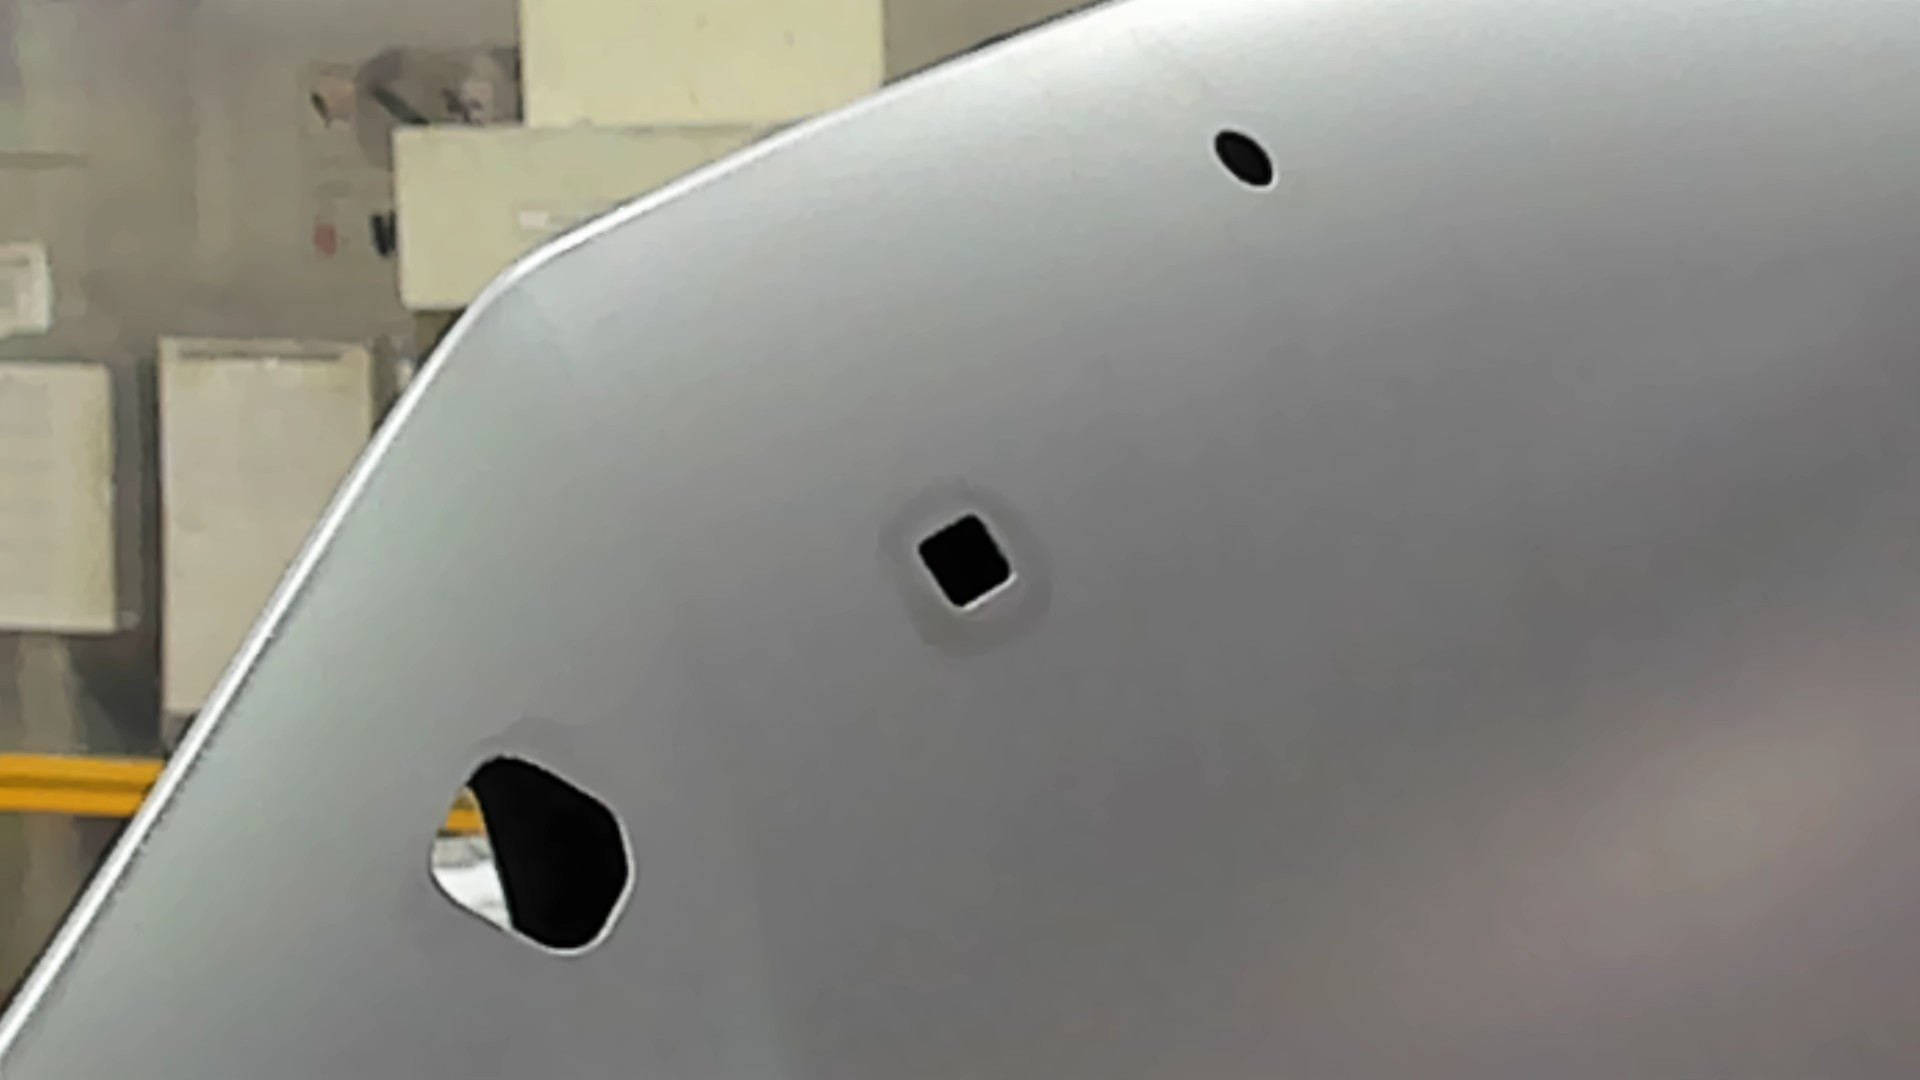chico: (1213, 127, 1275, 193)
grande: (425, 754, 642, 961)
mediano: (910, 510, 1018, 617)
